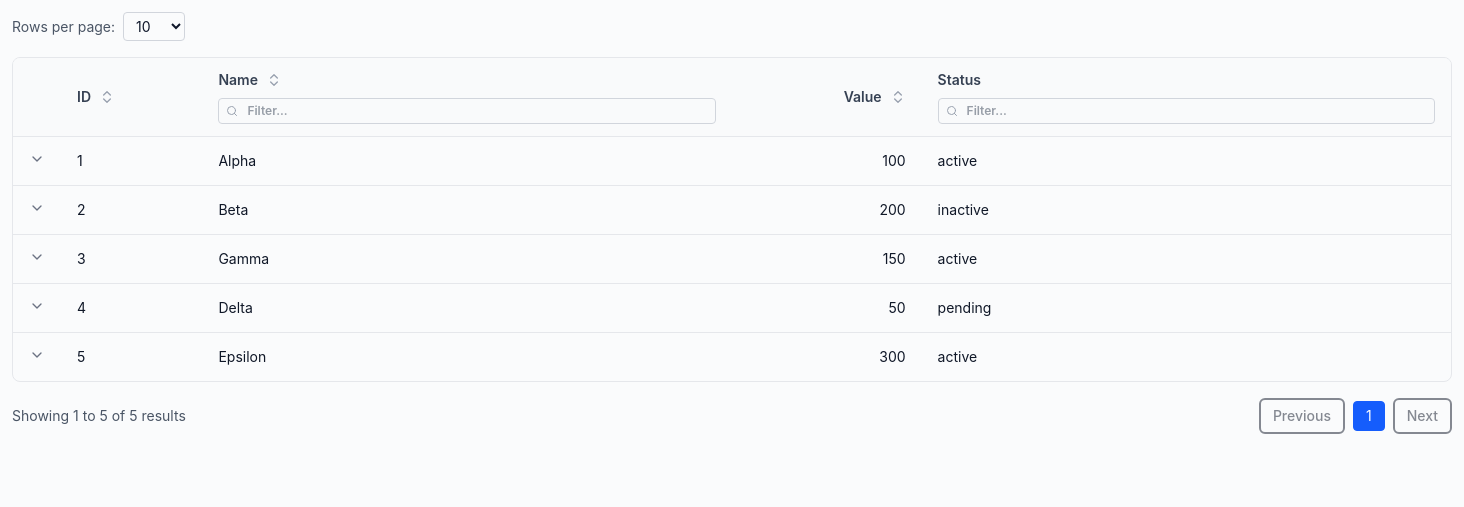
DataTable › Row Expansion › should collapse row on second click
The image size is (1464, 507).
What coordinates should you click on to do the following:
click the button named "expand row" in the row of "Alpha"
I would click on:
 (37, 159)
Its box is [29, 151, 45, 167].
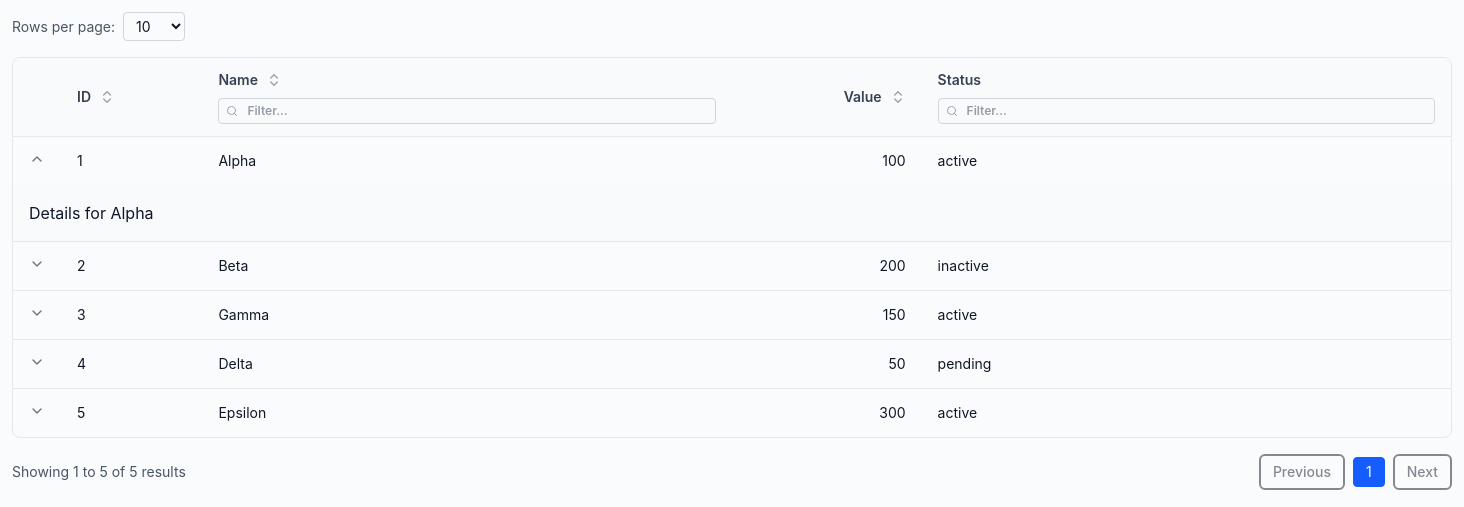
What coordinates should you click on to do the following:
click the button named "collapse row"
I would click on:
 (37, 159)
Its box is [29, 151, 45, 167].
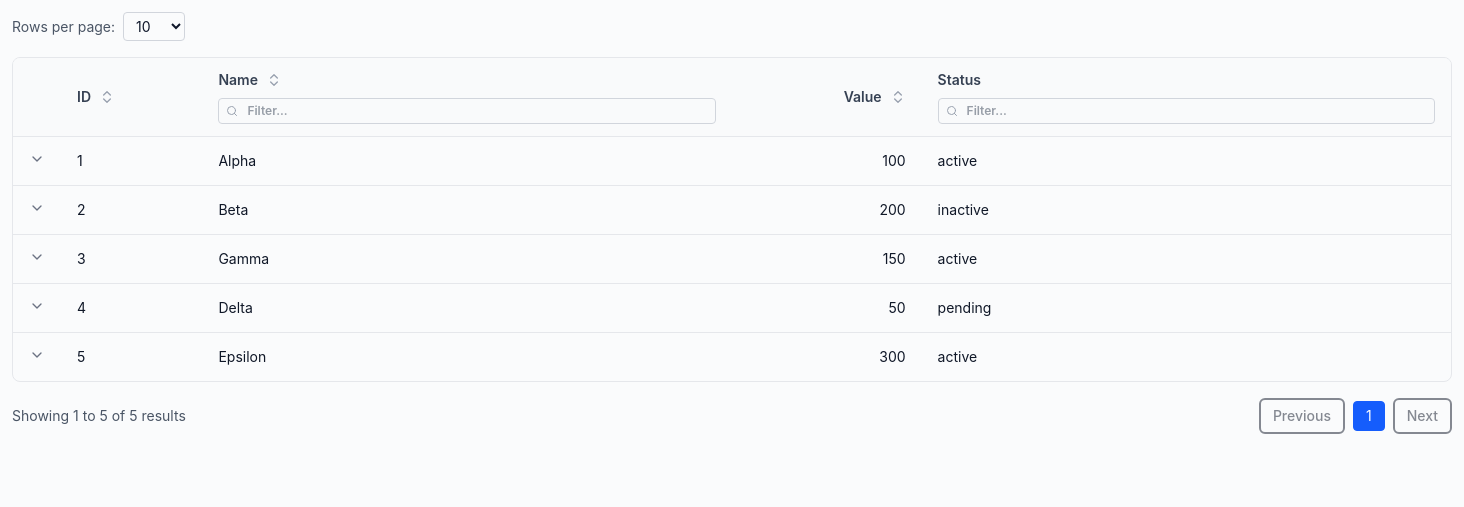
Check: the text with test id "expanded-content" is gone
